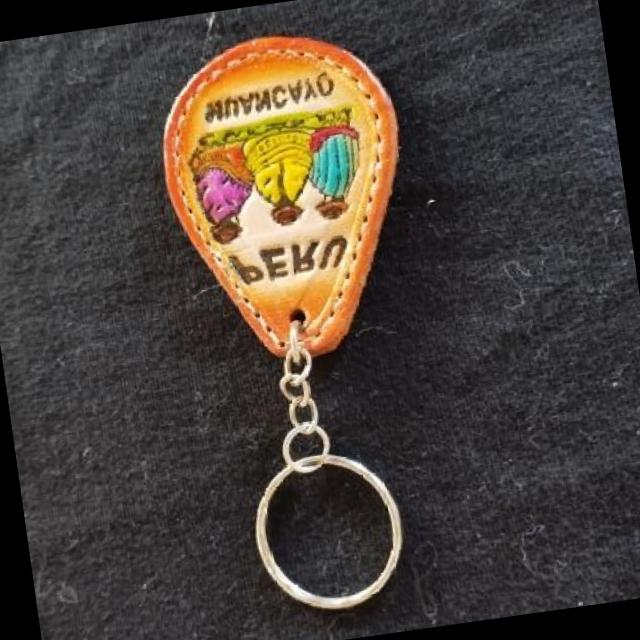Llavero: (146, 19, 430, 376)
